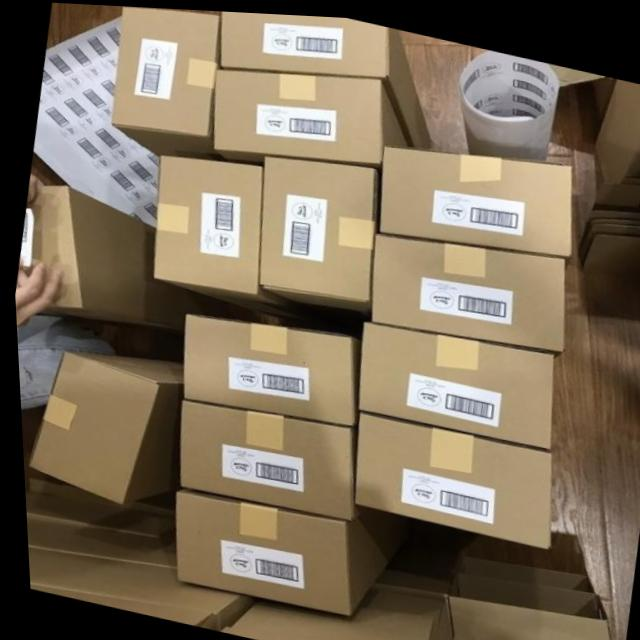box: (12, 185, 219, 330), (218, 9, 430, 144), (349, 408, 546, 543), (354, 318, 550, 444), (150, 154, 302, 315), (367, 229, 562, 354), (378, 142, 571, 252), (213, 66, 410, 173), (179, 311, 357, 423), (256, 154, 378, 309), (107, 5, 224, 160), (174, 397, 353, 460), (43, 349, 179, 421)
